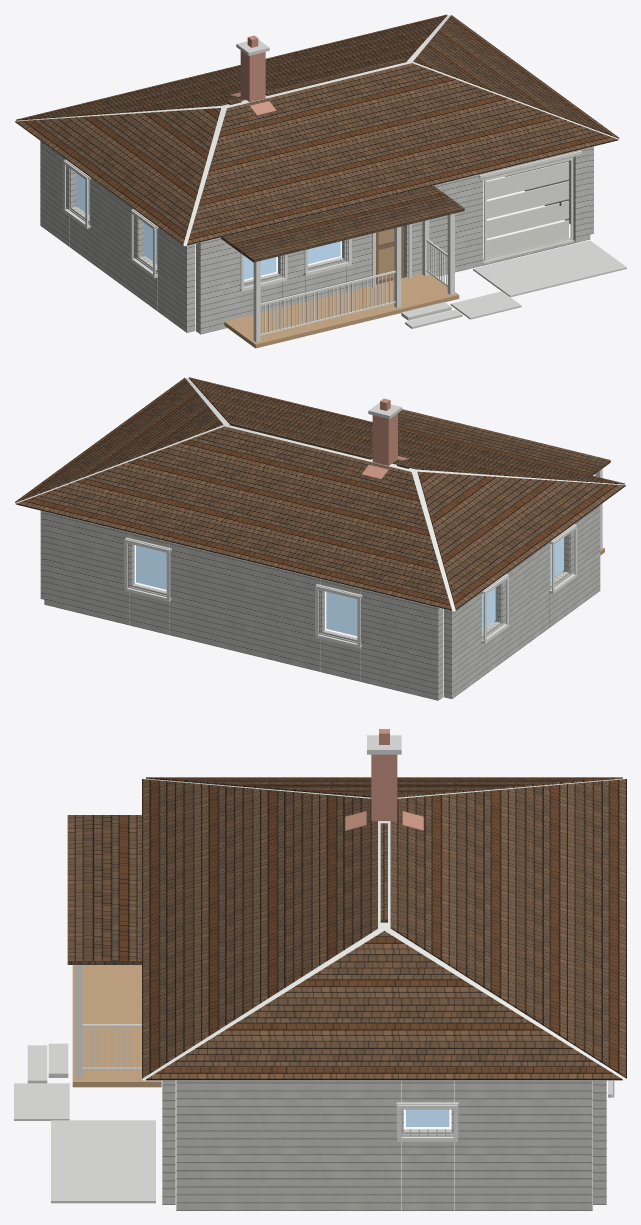
File: Ranch_House.fbx
3 views of the same model, one above another, from view 1: azimuth 30°, elevation 25°; view 2: azimuth 150°, elevation 25°; view 3: azimuth 270°, elevation 25° (orthographic). The views are drawn at different scales.
Parts seen in each view (by area): view 1: LOD0; view 2: LOD0; view 3: LOD0.
Boxes of the visible parts, x1,y1,x2,y2 form: LOD0: (14,14,626,348); LOD0: (14,377,626,700); LOD0: (14,729,626,1210).
Size of what is drawn, in the model's own units: 1158 by 528 by 993.
